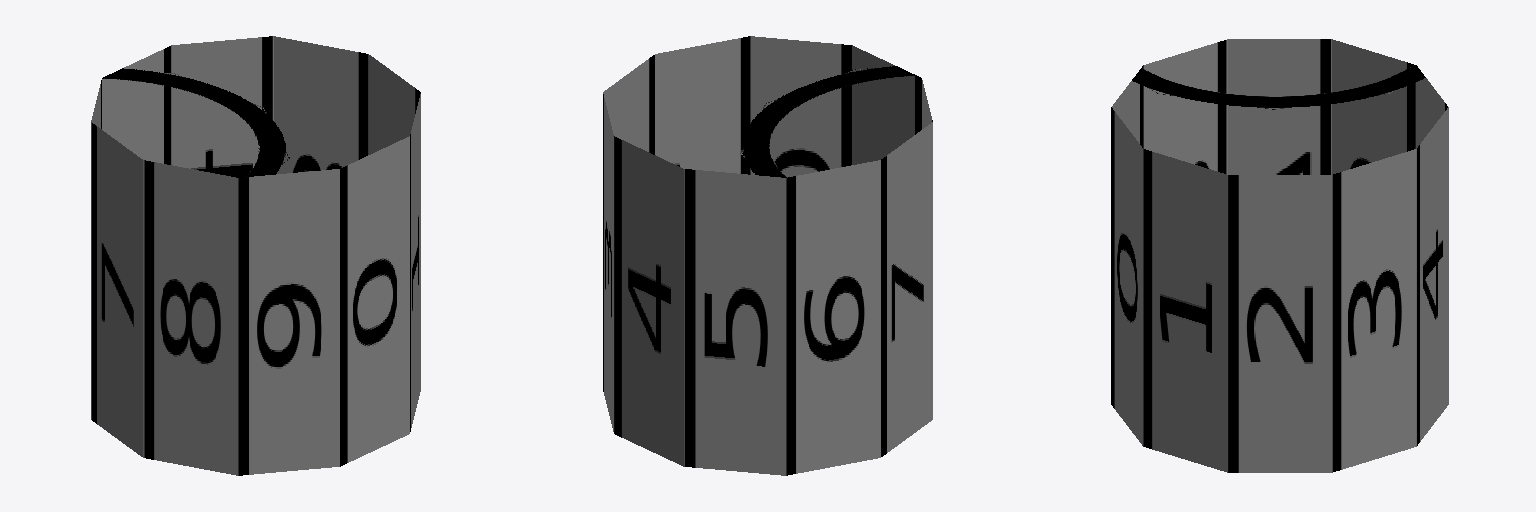
The picture shows the model from 3 angles: view 1: azimuth 30°, elevation 25°; view 2: azimuth 150°, elevation 25°; view 3: azimuth 270°, elevation 25°; orthographic projection.
Parts seen in each view (by area): view 1: Circle; view 2: Circle; view 3: Circle.
Boxes of the visible parts, x1,y1,x2,y2 form: Circle: [91, 36, 420, 475]; Circle: [603, 36, 932, 475]; Circle: [1111, 39, 1448, 472].
Bounding box in the file's own units: 0.9511 × 0.9749 × 1.
1 materials, 1 textured.